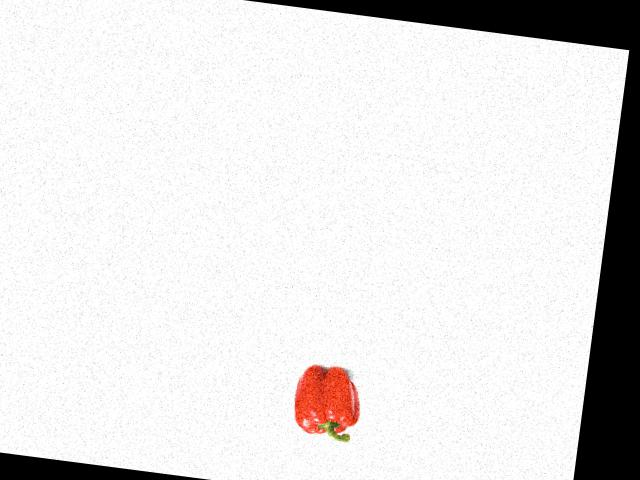bell_pepper: (288, 360, 365, 444)
